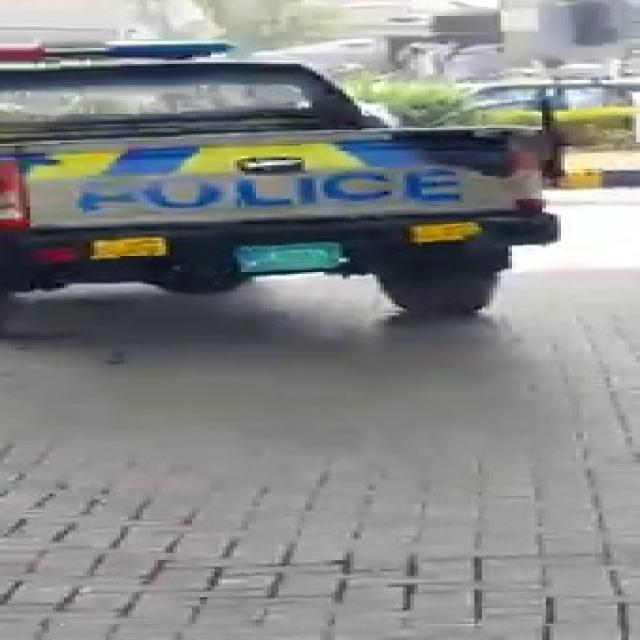police: (0, 0, 599, 297)
